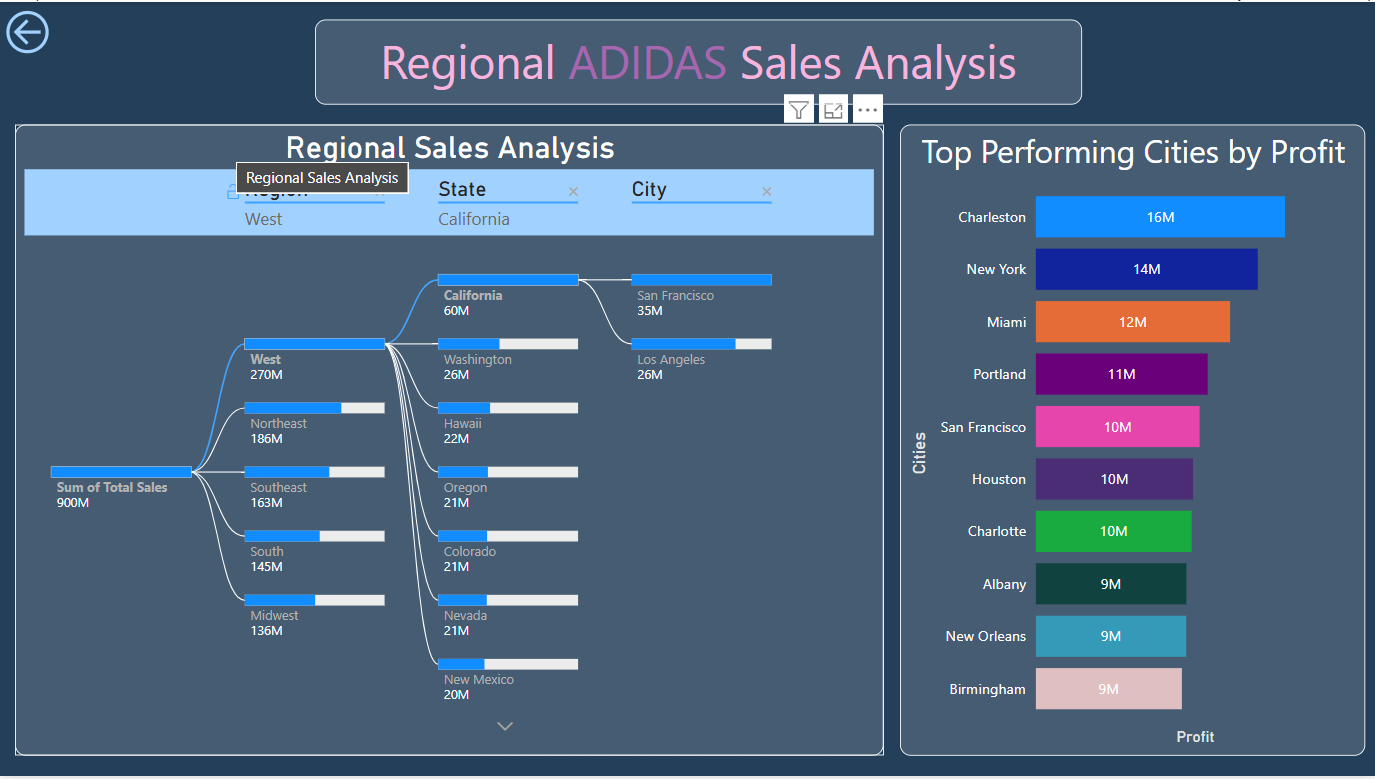

What the dashboard file says about the page in this screenshot:
{"tool":"powerbi","page":{"name":"Regional Analysis","canvas":[1280,720],"ordinal":1},"visuals":[{"type":"decompositionTreeVisual","title":"Regional Sales Analysis","fields":{"Analyze":["Sum(Data Sales Adidas.Total Sales)"],"ExplainBy":["Data Sales Adidas.Region","Data Sales Adidas.State","Data Sales Adidas.City"]},"box":[14,114,808.1,587.2],"z":0},{"type":"barChart","title":"Top Performing Cities by Profit","fields":{"Category":["Data Sales Adidas.City"],"Y":["Sum(Data Sales Adidas.Operating Profit)"],"Series":["Data Sales Adidas.City"]},"box":[837.2,114,432.6,587.2],"z":1000},{"type":"textbox","box":[293,16.3,714,79.1],"z":2000},{"type":"actionButton","box":[0,0,51.2,55.8],"z":3000}]}

Visuals, with their boxes in screenshot pixels (x1, y1, x2, y2), scaled from the page's 1280x720 canvas onto the 1375x779 screenshot:
"Regional Sales Analysis" decompositionTreeVisual: 15/123/883/759
"Top Performing Cities by Profit" barChart: 899/123/1364/759
textbox: 315/18/1082/103
actionButton: 0/0/55/60
